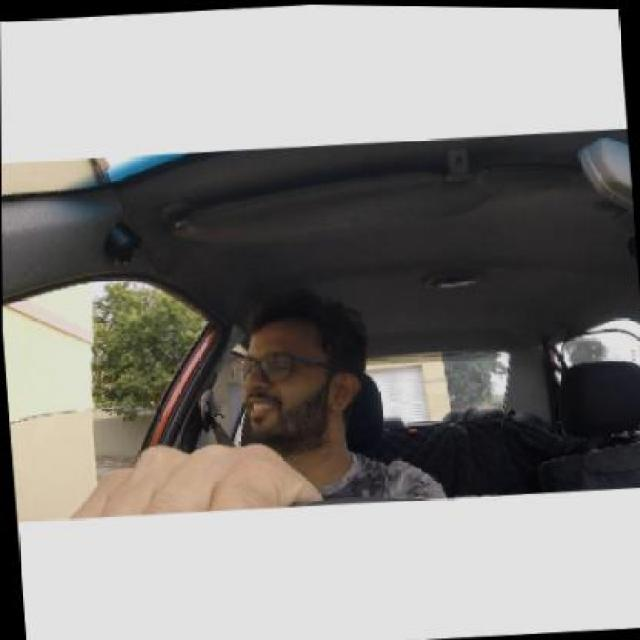LeftRight: (235, 286, 377, 466)
